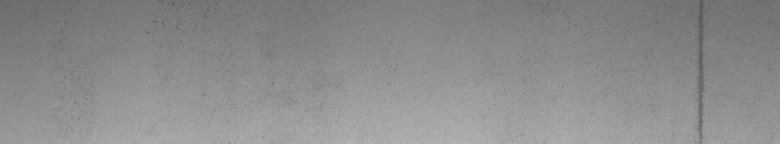hd: (690, 4, 708, 136)
